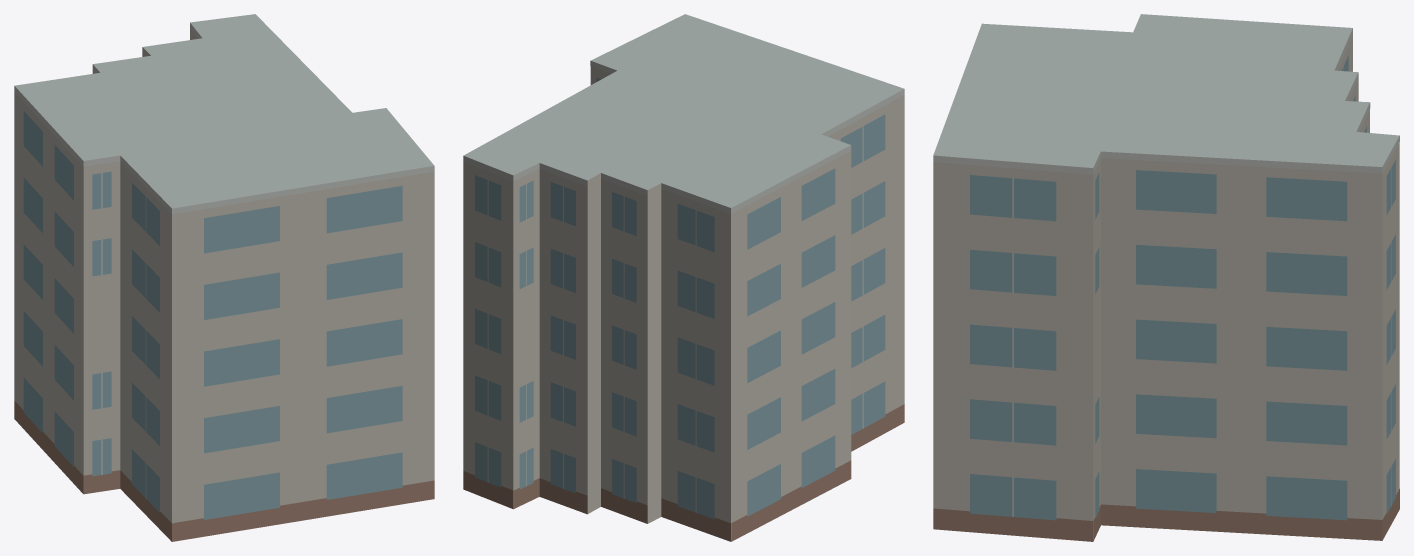
Rendered from survey-upis-32872359.glb.
3 views of the same model, side by side, from view 1: azimuth 30°, elevation 25°; view 2: azimuth 150°, elevation 25°; view 3: azimuth 270°, elevation 25° (orthographic). The views are drawn at different scales.
Parts seen in each view (by area): view 1: survey-upis-32872359.tmp; view 2: survey-upis-32872359.tmp; view 3: survey-upis-32872359.tmp.
Boxes of the visible parts, box(x1,y1,x2,y2) form: survey-upis-32872359.tmp: box(14, 14, 434, 541); survey-upis-32872359.tmp: box(463, 14, 904, 541); survey-upis-32872359.tmp: box(933, 14, 1399, 541).
Size of the model in its own units: 12.35 by 13.95 by 15.79.
